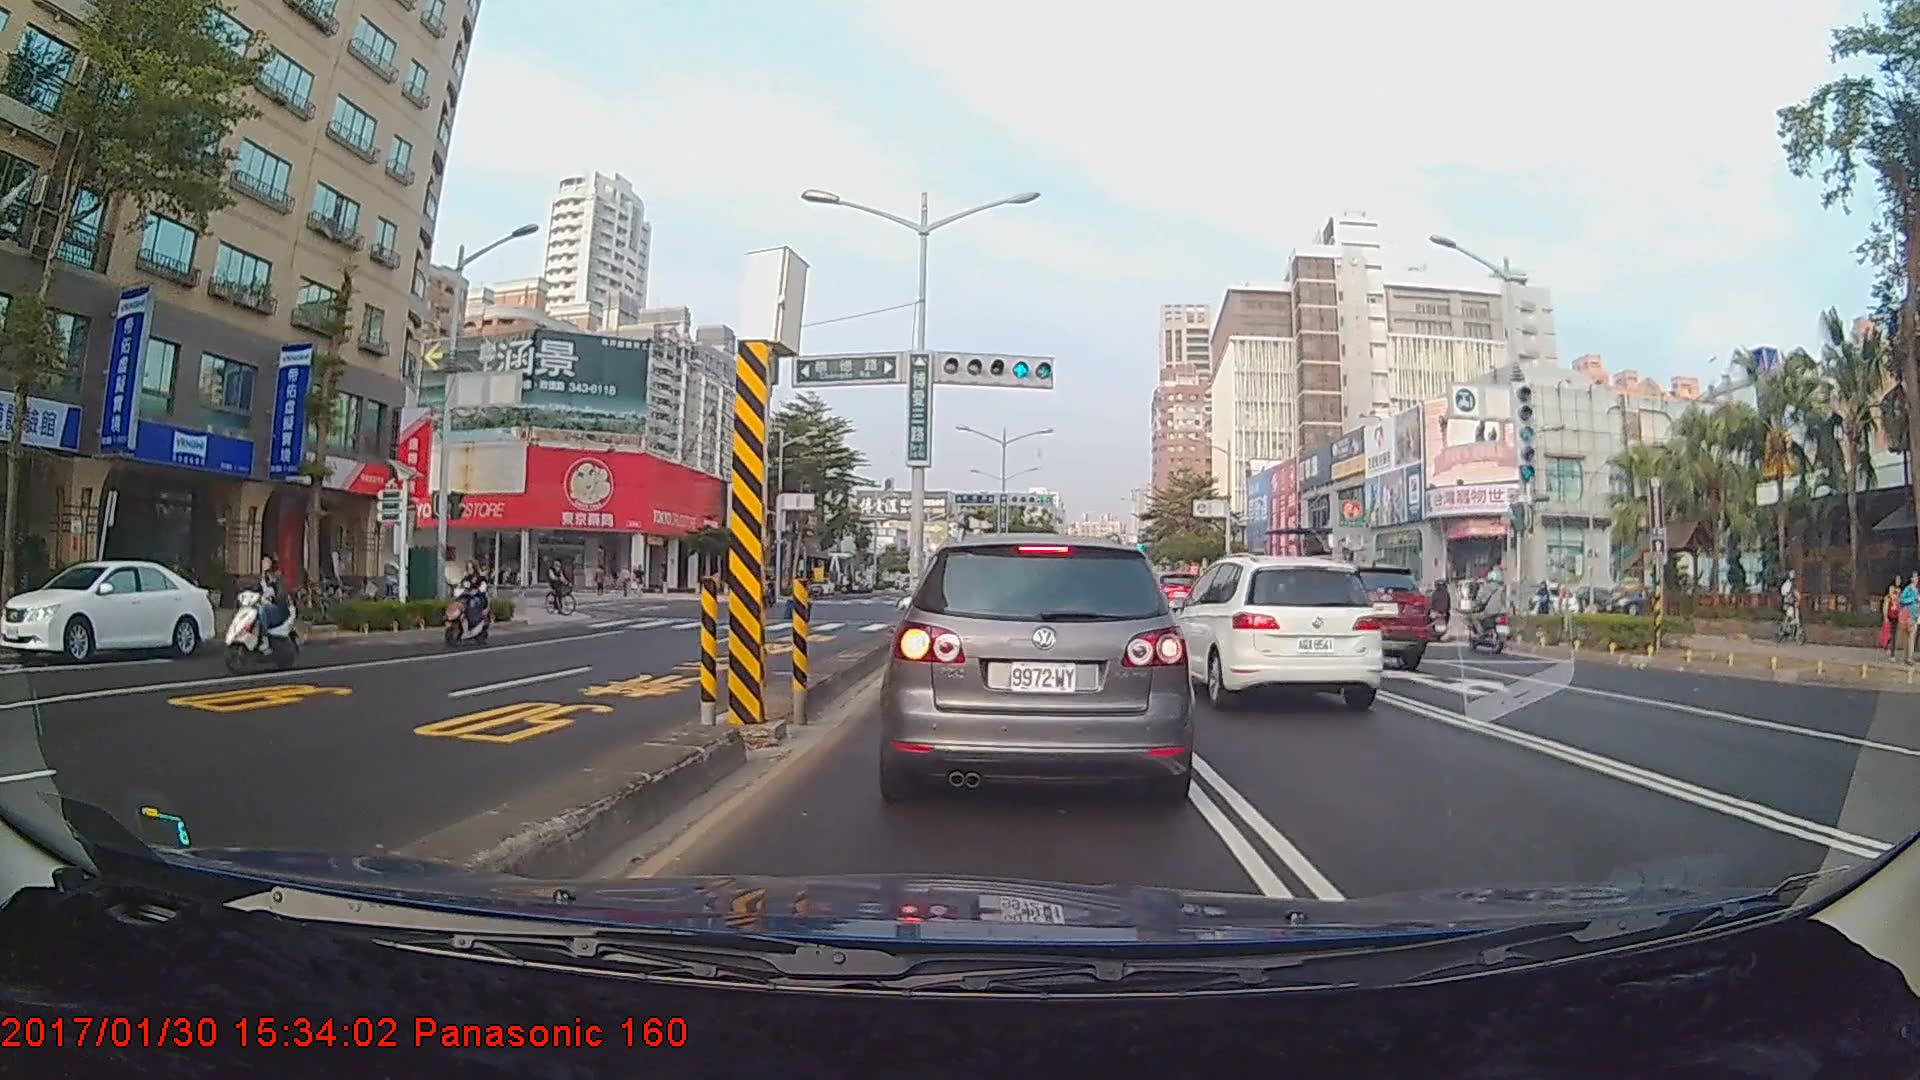pedestrian: (1877, 573, 1906, 662), (1896, 572, 1920, 665)
rider: (220, 554, 306, 673), (1459, 566, 1518, 653), (441, 560, 497, 651), (1768, 563, 1811, 648), (549, 558, 586, 616)
vehicle: (886, 529, 1187, 800), (1162, 551, 1385, 712), (2, 559, 217, 664), (1284, 561, 1429, 670), (1146, 571, 1200, 610)
